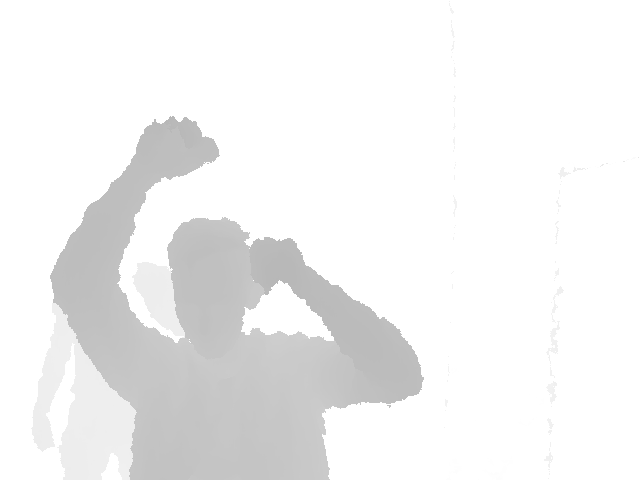hand: (139, 116, 221, 182)
head: (166, 215, 262, 348)
person: (49, 115, 423, 480)
